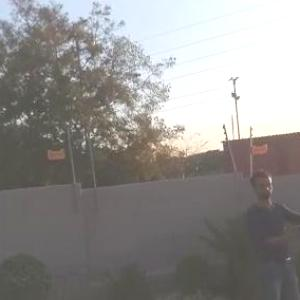follow: (232, 167, 300, 299)
